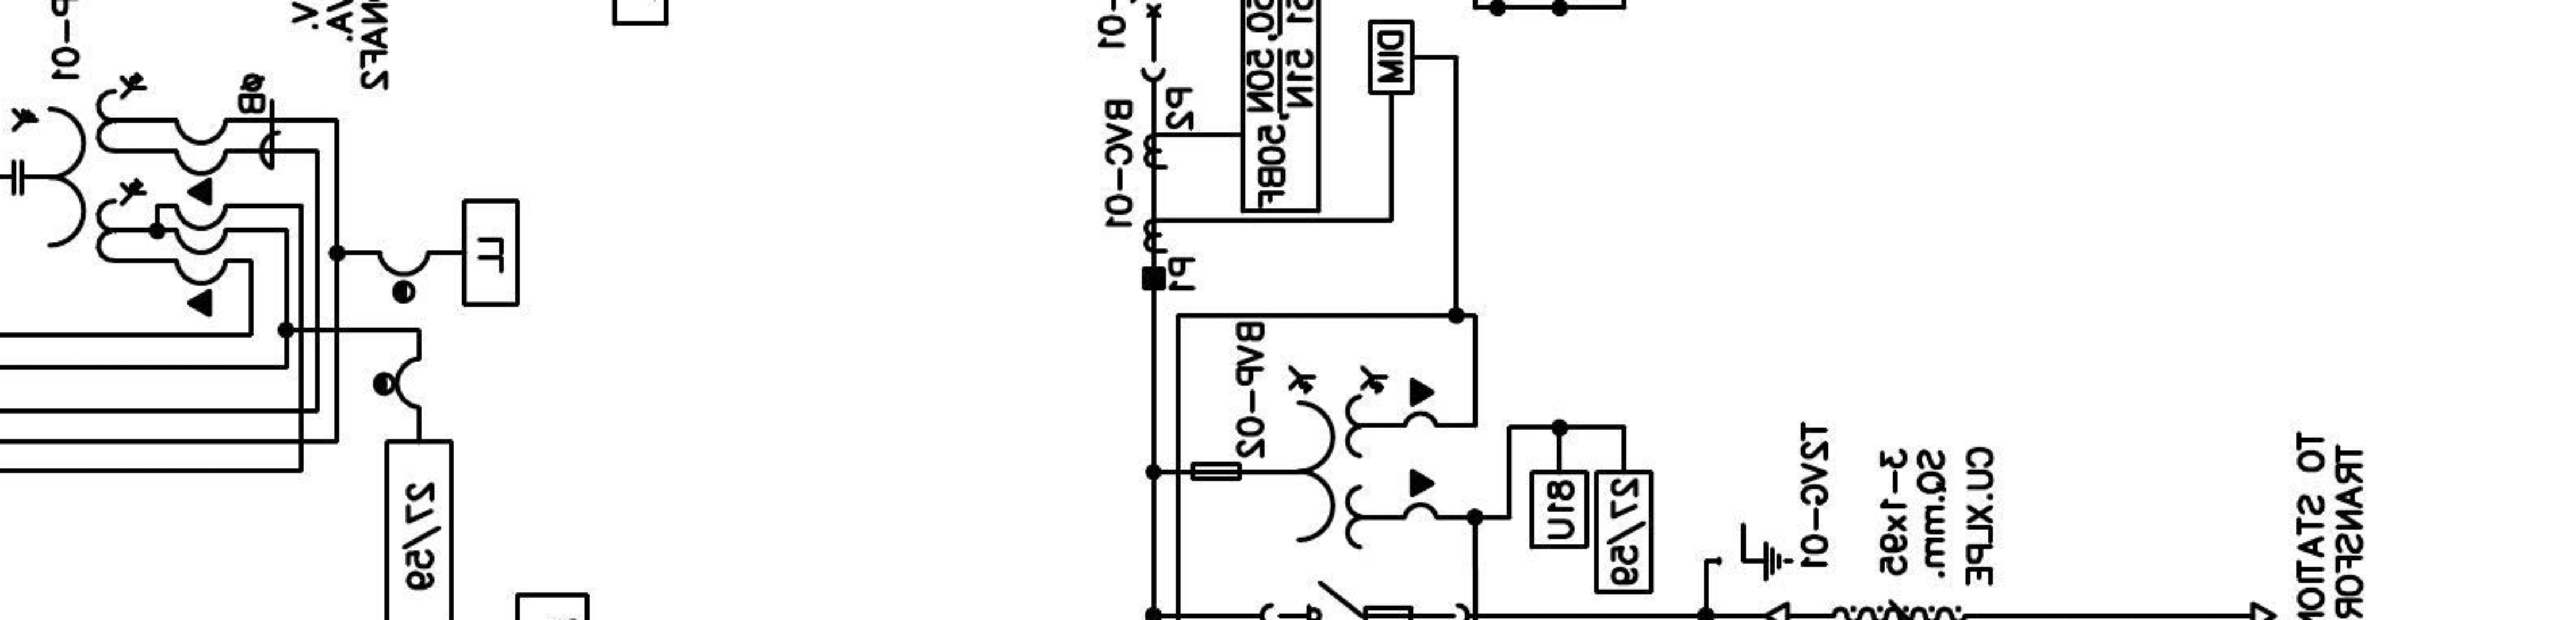115_cvt_3p: (10, 71, 149, 265)
22_gs: (1717, 521, 1796, 584)
22_vt_3p: (1189, 363, 1441, 551)
DIM: (1367, 20, 1414, 95)
LL: (462, 199, 521, 308)
